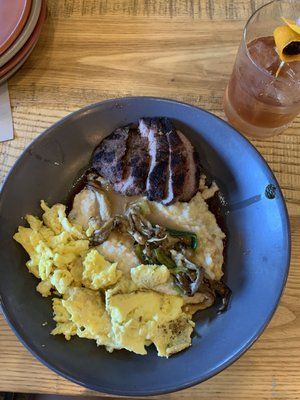pizza: (223, 0, 300, 138)
sushi: (0, 96, 297, 394)
